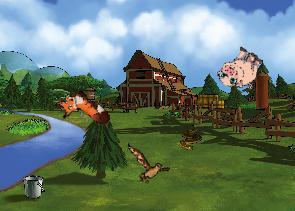eagle: (120, 143, 173, 188)
fox: (51, 81, 113, 141)
pig: (213, 41, 267, 96)
